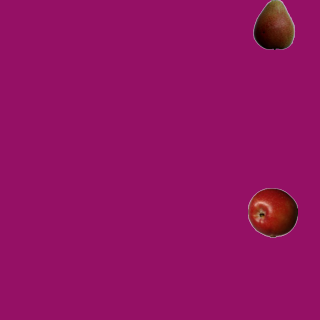Apple Braeburn: (247, 187, 297, 237)
Pear Forelle: (248, 0, 298, 49)
